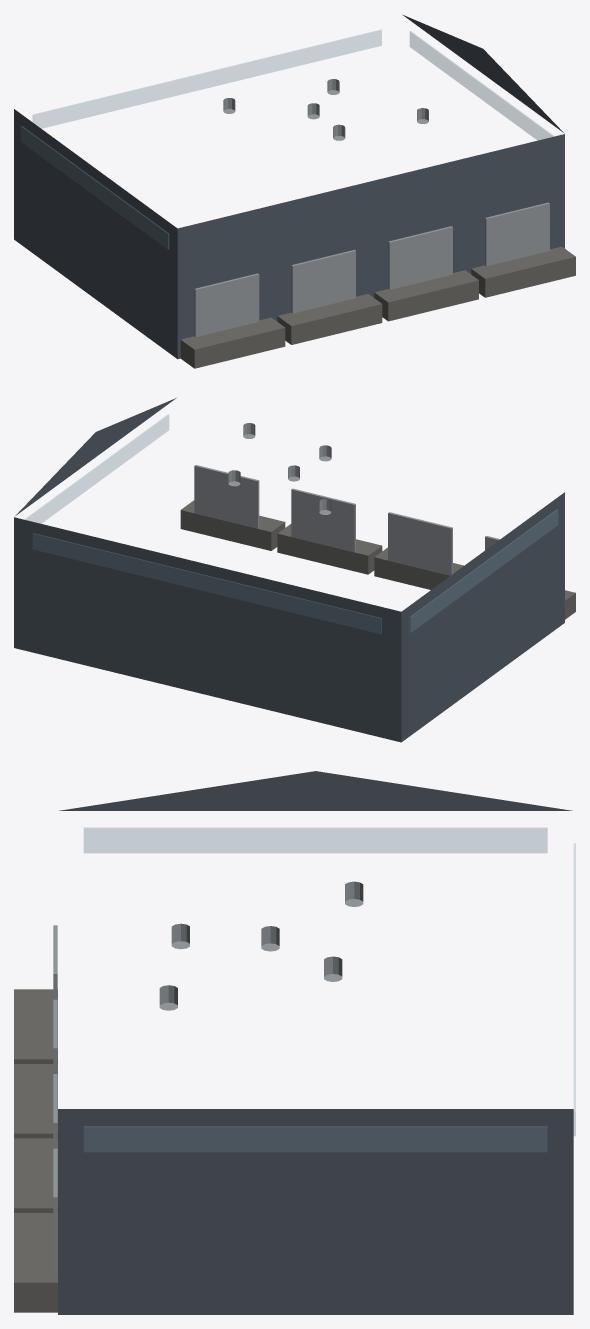
Rendered from warehouse-2.glb.
3 views of the same model, one above another, from view 1: azimuth 30°, elevation 25°; view 2: azimuth 150°, elevation 25°; view 3: azimuth 270°, elevation 25° (orthographic). The views are drawn at different scales.
Visible parts, largest first — view 1: warehouse-2; view 2: warehouse-2; view 3: warehouse-2.
Part boxes in pixels (x1,y1,x2,y2): warehouse-2: (14,14,575,368); warehouse-2: (14,398,575,742); warehouse-2: (14,771,575,1314).
Size of the model in its own units: 25.82 by 9.87 by 20.44.
